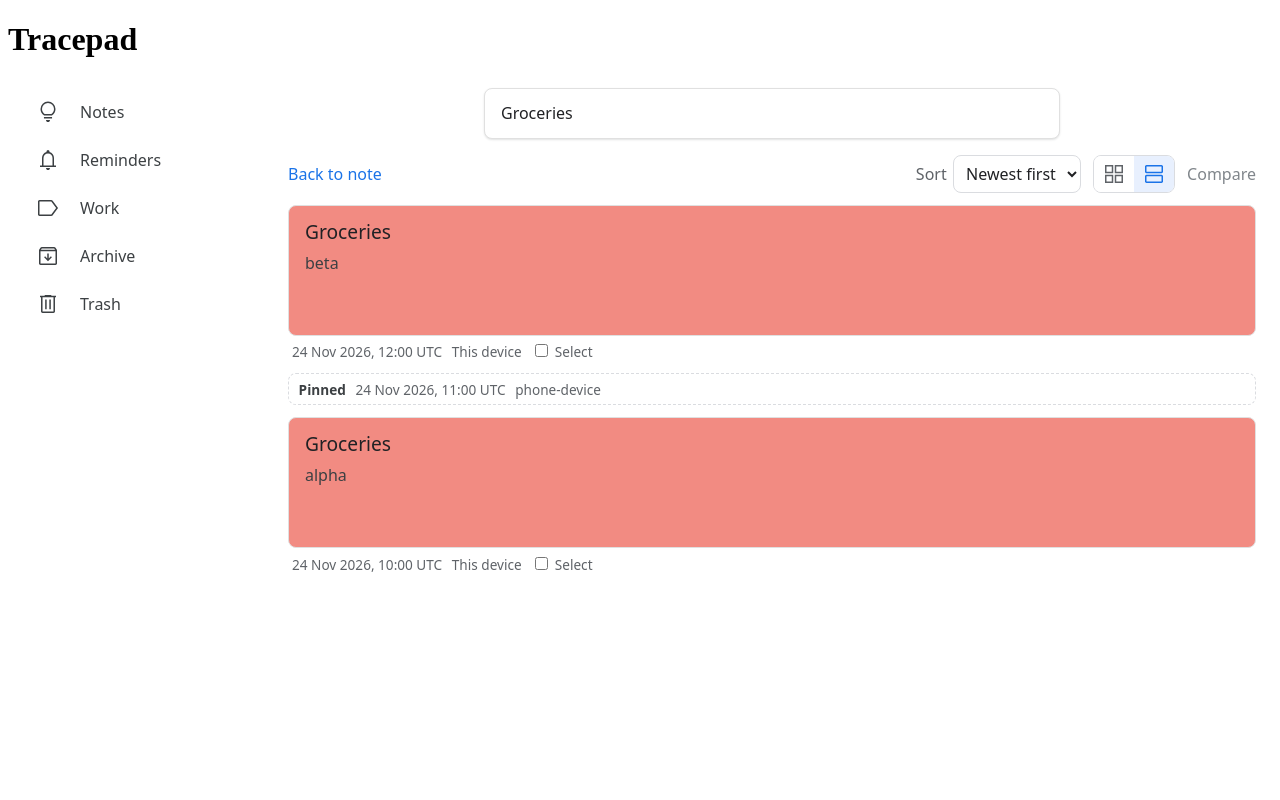
Test: history page › opens in the board’s current layout and toggles grid and list
The image size is (1280, 800).
Earlier steps of the test are not shown.
Check: the button named "List" is pressed, box top-left (1134, 156), bottom-right (1174, 192)
Click the button named "Grid" at (1114, 174), box top-left (1094, 156), bottom-right (1134, 192)
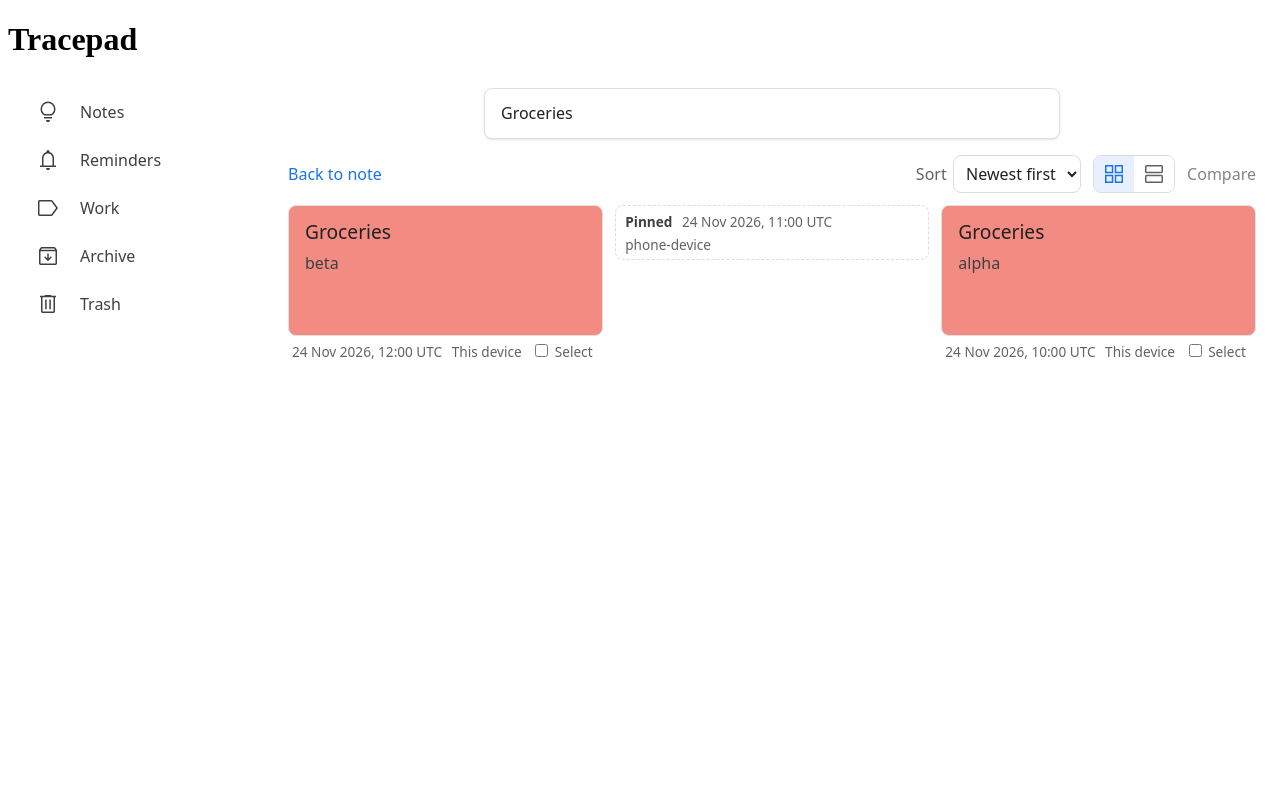
Check: the list named "History" has attribute data-layout="grid", box top-left (288, 205), bottom-right (1256, 361)
Check: the button named "Grid" is pressed, box top-left (1094, 156), bottom-right (1134, 192)
